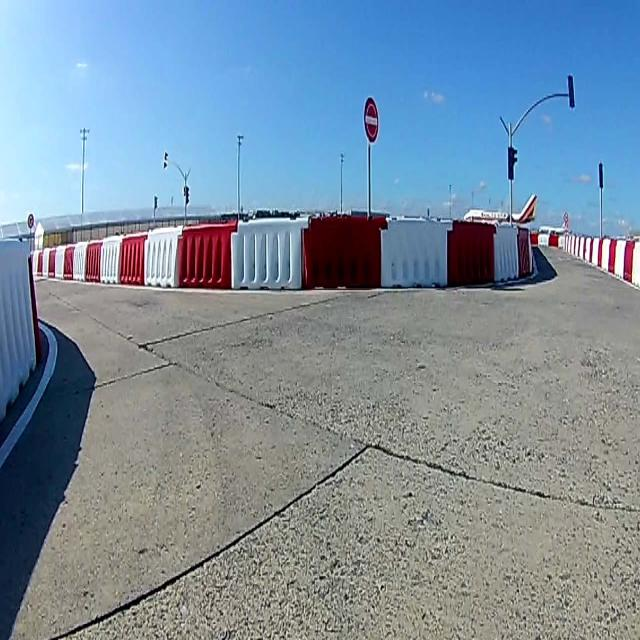girisyok: (362, 98, 382, 146)
